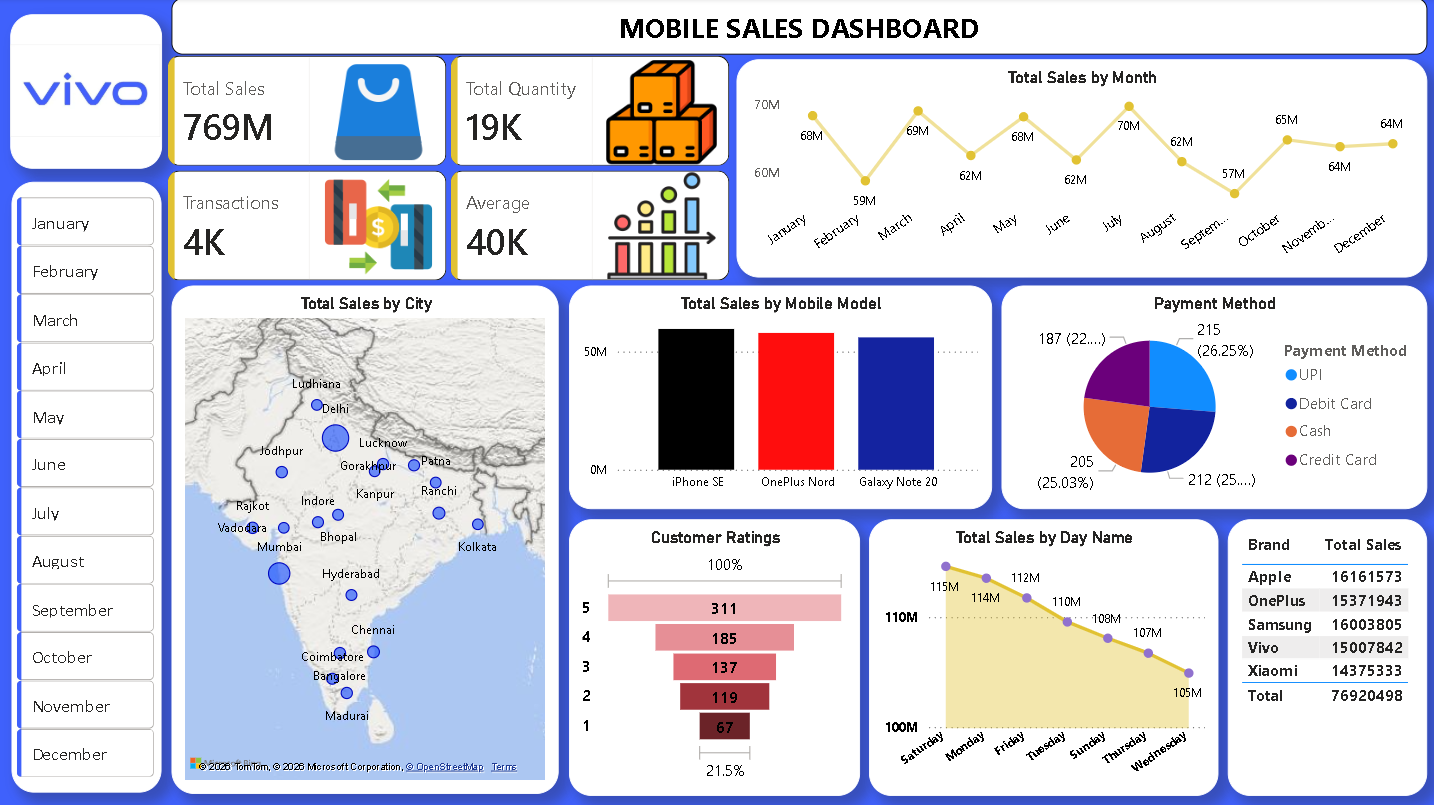

What the dashboard file says about the page in this screenshot:
{"tool":"powerbi","page":{"name":"Page 1","canvas":[1280,720],"ordinal":0},"visuals":[{"type":"shape","box":[9.7,14.5,135.1,137.5],"z":0},{"type":"image","box":[10,38.8,133.8,87.5],"z":1000},{"type":"shape","box":[10.9,164.1,133.9,544.1],"z":2000},{"type":"advancedSlicerVisual","fields":{"Values":["Sales Data.Date.Variation.Date Hierarchy.Month"]},"box":[10.9,172.5,132.7,535.7],"z":3000},{"type":"cardVisual","fields":{"Data":["Sales Data.Total Sales","Sales Data.Total Quantity","Sales Data.Tranactions","Sales Data.Average"]},"box":[133.9,35,534.5,235.3],"z":4000},{"type":"map","fields":{"Category":["Sales Data.City"],"Size":["Sales Data.Total Sales"]},"box":[153.2,255.8,345,452.4],"z":5000},{"type":"lineChart","fields":{"Y":["Sales Data.Total Sales"],"Category":["Sales Data.Date.Variation.Date Hierarchy.Month","Sales Data.Date.Variation.Date Hierarchy.Day"]},"box":[656.3,54.3,615.3,194.2],"z":6000},{"type":"columnChart","fields":{"Category":["Sales Data.Mobile Model"],"Y":["Sales Data.Total Sales"]},"box":[507.9,255.8,376.4,199.1],"z":7000},{"type":"pieChart","title":" Payment Method","fields":{"Category":["Sales Data.Payment Method"],"Y":["Sales Data.Transactions"]},"box":[892.8,255.8,378.8,199.1],"z":8000},{"type":"funnel","title":"Customer Ratings ","fields":{"Category":["Sales Data.Customer Ratings"],"Y":["CountNonNull(Sales Data.Customer Ratings)"]},"box":[507.9,464.5,259.4,246.1],"z":9000},{"type":"areaChart","fields":{"Category":["Sales Data.Day Name"],"Y":["Sales Data.Total Sales"]},"box":[774.5,464.5,311.3,246.1],"z":10000},{"type":"tableEx","fields":{"Values":["Sales Data.Brand","Sales Data.Total Sales"]},"box":[1094.2,464.5,177.3,246.1],"z":11000},{"type":"textbox","box":[153.2,0,1118.4,50.7],"z":11001}]}

Visuals, with their boxes in screenshot pixels (x1, y1, x2, y2), scaled from the page's 1280x720 canvas onto the 1434x805 screenshot:
shape: crop(11, 16, 162, 170)
image: crop(11, 43, 161, 141)
shape: crop(12, 183, 162, 792)
advancedSlicerVisual - Sales Data.Date.Variation.Date Hierarchy.Month: crop(12, 193, 161, 792)
cardVisual - Sales Data.Total Sales x Sales Data.Total Quantity: crop(150, 39, 749, 302)
map - Sales Data.City x Sales Data.Total Sales: crop(172, 286, 558, 792)
lineChart - Sales Data.Total Sales x Sales Data.Date.Variation.Date Hierarchy.Month: crop(735, 61, 1425, 278)
columnChart - Sales Data.Mobile Model x Sales Data.Total Sales: crop(569, 286, 991, 509)
" Payment Method" pieChart: crop(1000, 286, 1425, 509)
"Customer Ratings " funnel: crop(569, 519, 860, 794)
areaChart - Sales Data.Day Name x Sales Data.Total Sales: crop(868, 519, 1216, 794)
tableEx - Sales Data.Brand x Sales Data.Total Sales: crop(1226, 519, 1424, 794)
textbox: crop(172, 0, 1425, 57)
